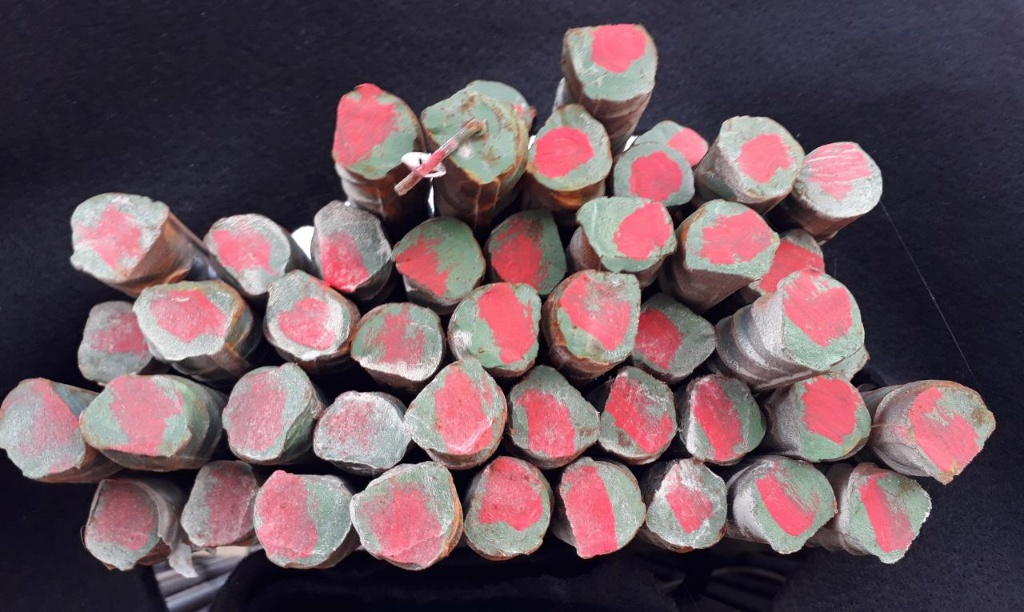dipstick: (352, 462, 459, 571), (423, 75, 530, 182), (406, 361, 508, 456), (254, 470, 351, 568), (1, 379, 85, 487), (223, 363, 313, 462), (333, 80, 420, 182), (506, 367, 601, 460), (465, 459, 552, 560), (66, 193, 169, 278), (79, 378, 191, 456), (907, 383, 997, 480), (134, 282, 242, 360), (780, 268, 866, 365), (561, 459, 645, 558), (751, 461, 839, 553), (393, 216, 487, 302), (526, 102, 613, 191), (780, 375, 871, 460), (452, 284, 542, 369), (684, 201, 778, 281), (853, 473, 935, 564), (311, 198, 390, 292), (579, 196, 678, 271), (314, 392, 410, 469), (558, 272, 640, 362), (203, 212, 290, 296), (266, 271, 350, 357), (719, 116, 803, 201), (682, 375, 767, 459), (600, 368, 679, 458), (631, 294, 716, 377), (649, 460, 729, 548), (89, 477, 163, 571), (566, 27, 658, 102), (354, 302, 440, 381), (803, 140, 883, 218), (494, 211, 566, 297), (184, 462, 256, 545), (79, 300, 151, 382), (613, 141, 694, 205), (759, 229, 825, 290), (636, 118, 707, 164)
